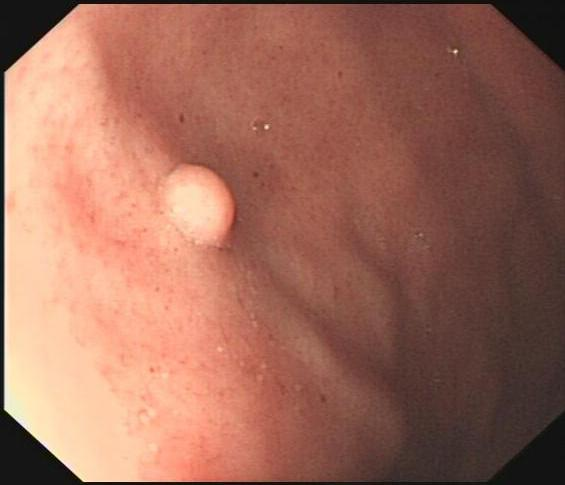Polyp: (144, 141, 264, 266)
